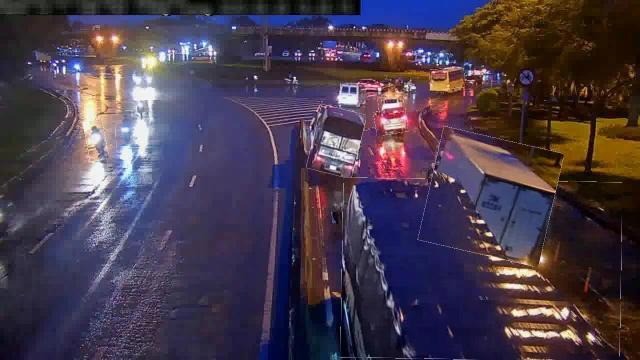Bike: (85, 120, 107, 160), (116, 110, 132, 148)
Bus: (430, 68, 464, 90), (340, 84, 368, 106)
Car: (374, 109, 408, 135), (378, 97, 404, 114)
Truck: (342, 178, 622, 360), (424, 133, 558, 261), (310, 106, 362, 176)
